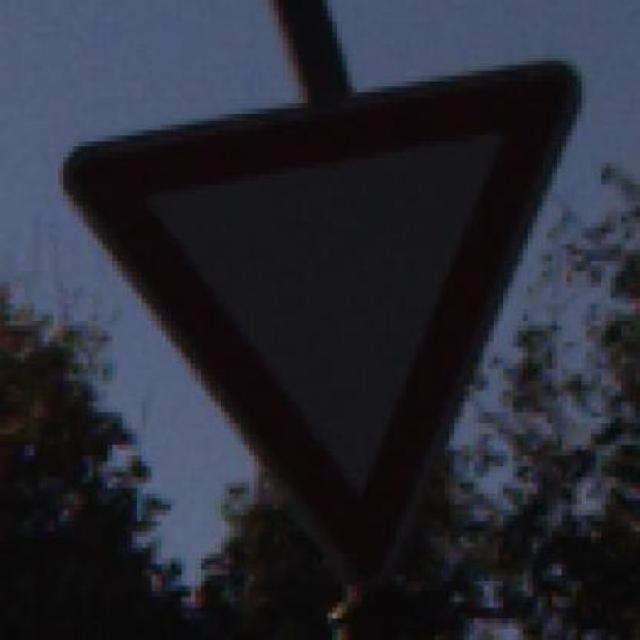Give Way: (52, 54, 613, 629)
